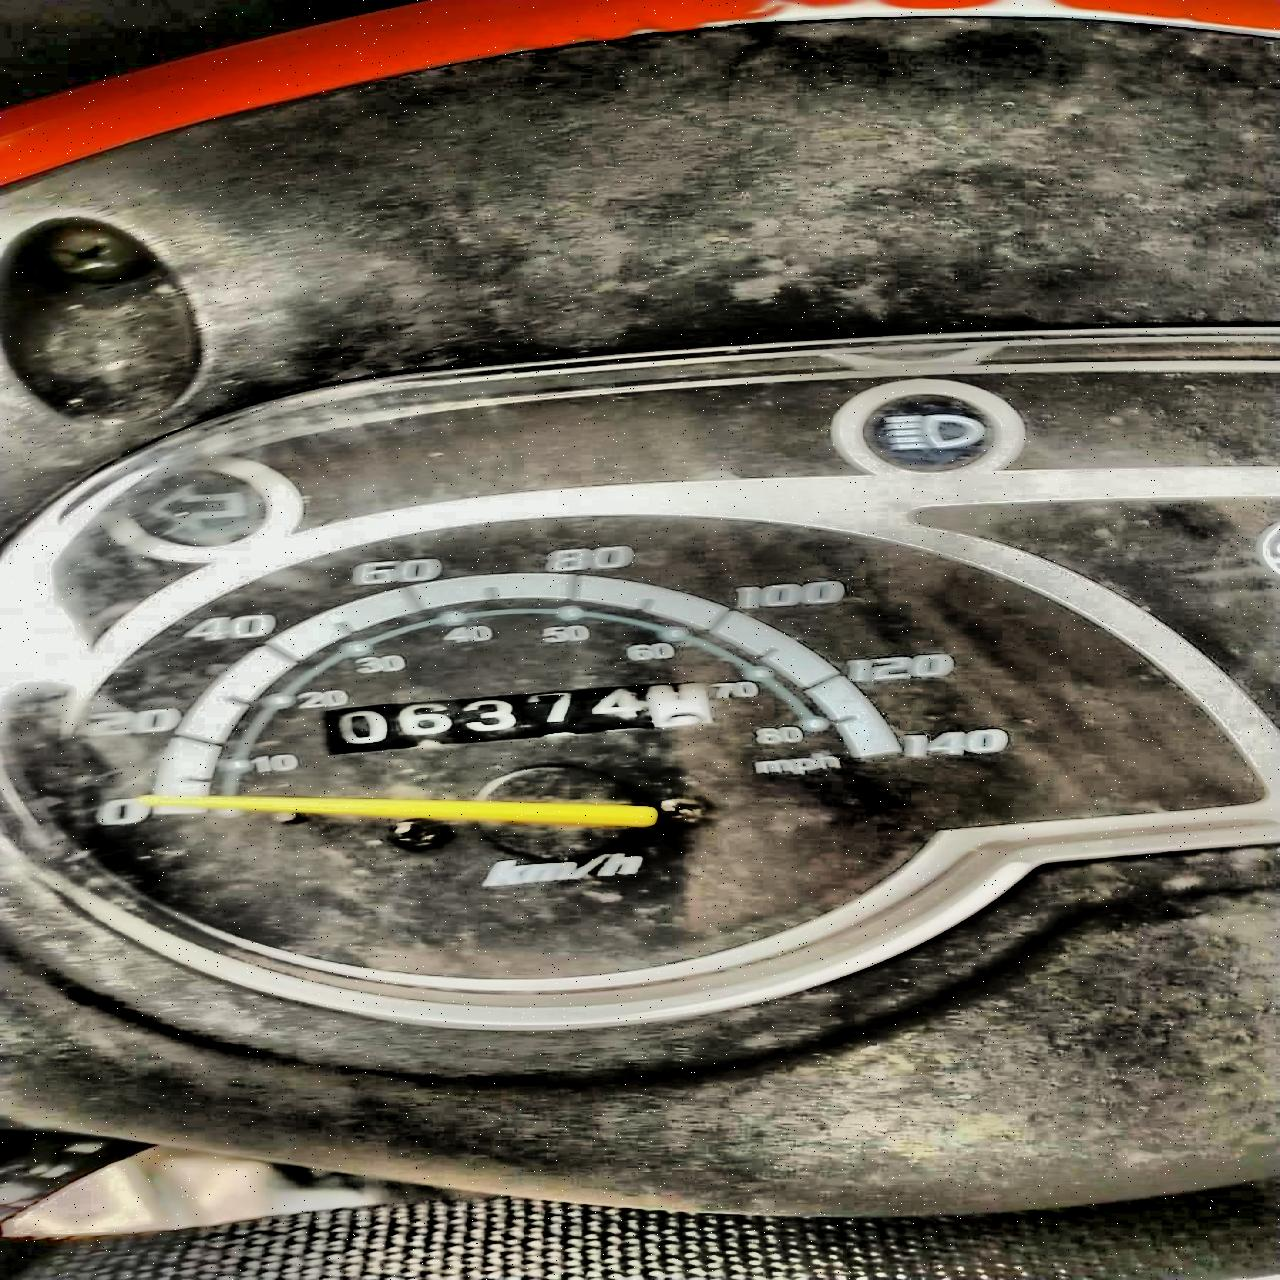0: (333, 709, 386, 747), (324, 687, 350, 707)
1: (662, 674, 701, 706)
3: (459, 695, 517, 733)
4: (592, 686, 651, 724)
6: (392, 699, 449, 735)
7: (524, 689, 583, 724)
odometer: (316, 680, 715, 756)
